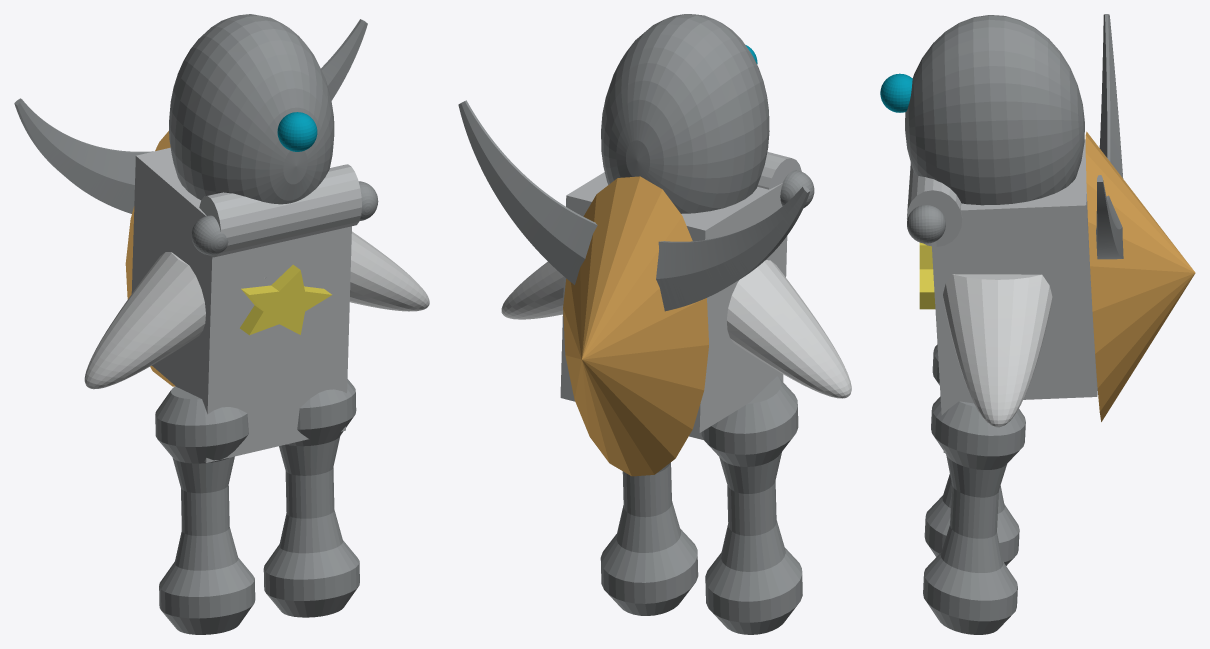
The model's file is alien1.glb.
3 renders of one model, left to right at view 1: azimuth 30°, elevation 25°; view 2: azimuth 150°, elevation 25°; view 3: azimuth 270°, elevation 25°, orthographic. The views are drawn at different scales.
Visible parts, largest first — view 1: Mesh_Mesh_head_geo.001_lambert2SG.001; view 2: Mesh_Mesh_head_geo.001_lambert2SG.001; view 3: Mesh_Mesh_head_geo.001_lambert2SG.001.
Part boxes in pixels (x1=…): Mesh_Mesh_head_geo.001_lambert2SG.001: x1=14, y1=14, x2=429, y2=634; Mesh_Mesh_head_geo.001_lambert2SG.001: x1=458, y1=14, x2=851, y2=634; Mesh_Mesh_head_geo.001_lambert2SG.001: x1=880, y1=14, x2=1195, y2=634.
Bounding box in the file's own units: 0.0515 × 0.082 × 0.0402.
